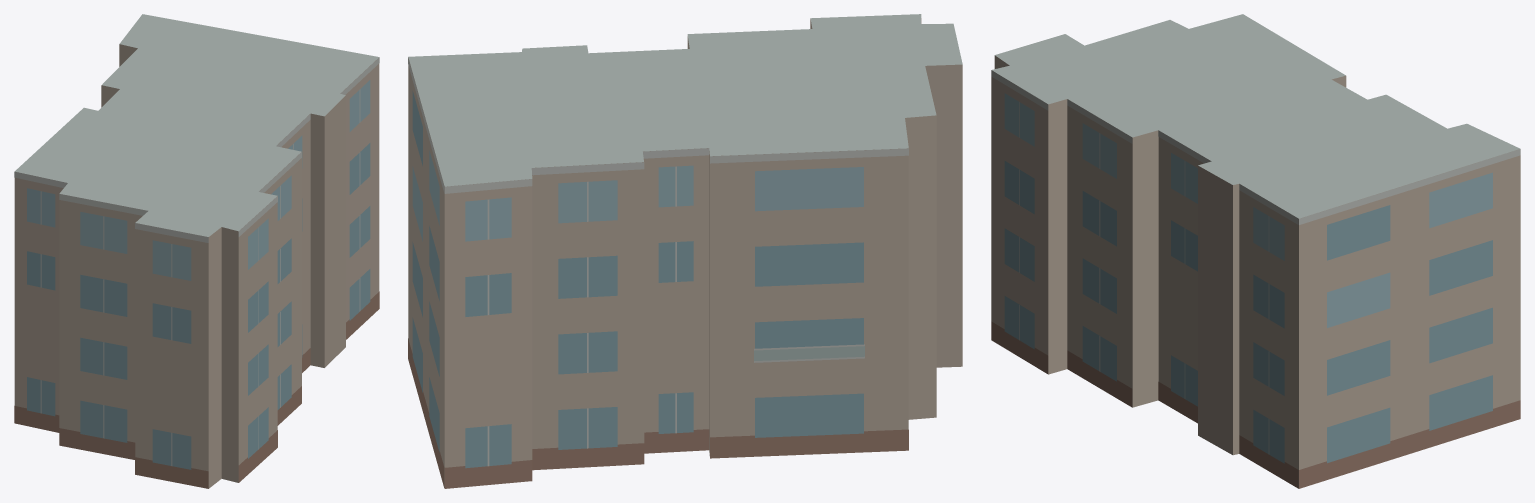
File: survey-upis-32870012.glb
The picture shows the model from 3 angles, left to right: view 1: azimuth 30°, elevation 25°; view 2: azimuth 150°, elevation 25°; view 3: azimuth 270°, elevation 25°; orthographic projection. The views are drawn at different scales.
Parts seen in each view (by area): view 1: survey-upis-32870012.tmp; view 2: survey-upis-32870012.tmp; view 3: survey-upis-32870012.tmp.
Part boxes in pixels (bbox=[...]): survey-upis-32870012.tmp: bbox=[14, 14, 379, 488]; survey-upis-32870012.tmp: bbox=[408, 14, 962, 488]; survey-upis-32870012.tmp: bbox=[991, 14, 1520, 488].
Bounding box in the file's own units: 16.42 × 10.1 × 17.94.
